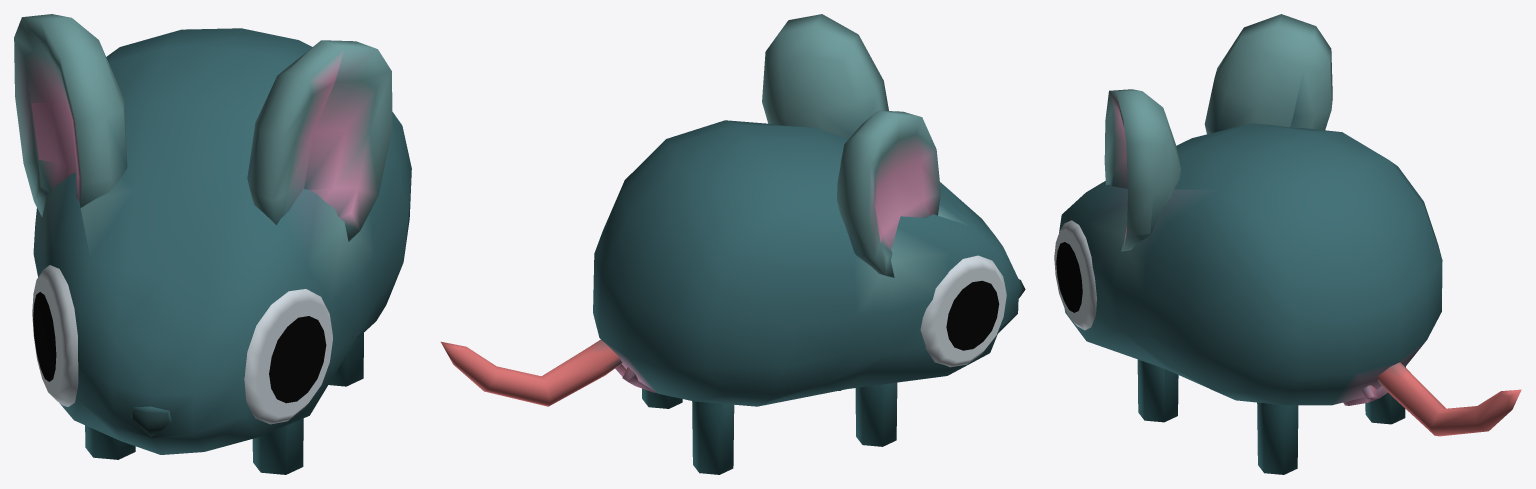
Rendered from Mouse.glb.
3 renders of one model, left to right at view 1: azimuth 30°, elevation 25°; view 2: azimuth 150°, elevation 25°; view 3: azimuth 270°, elevation 25°, orthographic. The views are drawn at different scales.
Parts seen in each view (by area): view 1: 105; view 2: 105; view 3: 105.
Boxes of the visible parts, x1,y1,x2,y2 form: 105: [14, 14, 411, 474]; 105: [441, 14, 1025, 474]; 105: [1054, 14, 1521, 474].
Size of the model in its own units: 0.4941 by 0.4328 by 0.5361.
